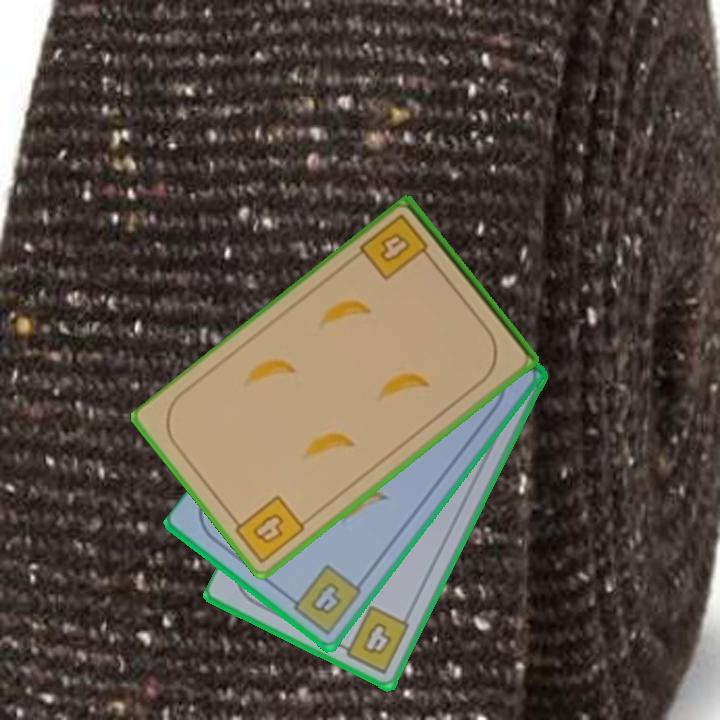4b: (283, 561, 365, 638), (227, 492, 308, 566), (357, 210, 438, 284), (334, 602, 413, 677)
